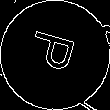P_E: (26, 30, 84, 80)
